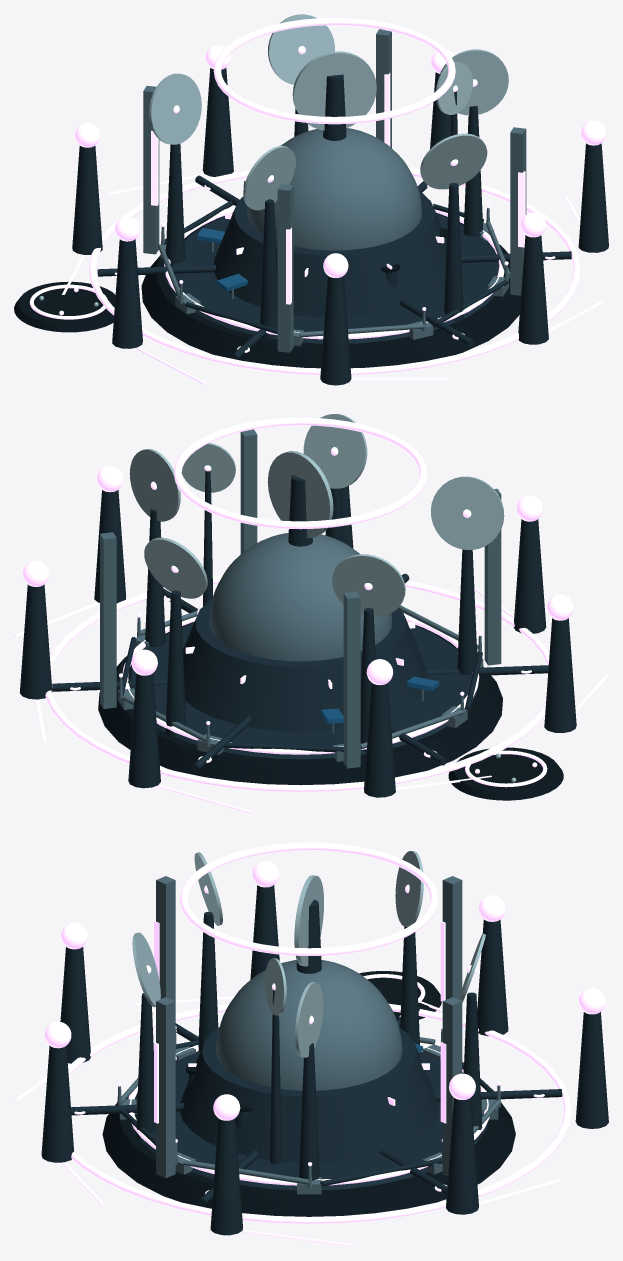
The model's file is researchLab-stage4.glb.
3 views of the same model, one above another, from view 1: azimuth 30°, elevation 25°; view 2: azimuth 150°, elevation 25°; view 3: azimuth 270°, elevation 25° (orthographic). The views are drawn at different scales.
Visible parts, largest first — view 1: observatory-dome, laboratory-base, armored-foundation, upper-deck, district-grid-3, research-field-crown, deep-space-dish, landing-pad, deep-space-array-3, deep-space-array-1, deep-space-array-4, energy-pylon-0 (+32 smaller); view 2: observatory-dome, laboratory-base, armored-foundation, upper-deck, district-grid-3, research-field-crown, deep-space-array-2, landing-pad, deep-space-dish, deep-space-array-3, mega-pylon-2, deep-space-array-1 (+30 smaller); view 3: laboratory-base, observatory-dome, armored-foundation, upper-deck, district-grid-3, research-field-crown, mega-pylon-0, energy-pylon-3, energy-pylon-4, energy-pylon-6, energy-pylon-5, energy-pylon-2 (+33 smaller).
Part boxes in pixels (x1,y1,x2,y2): observatory-dome: (247,128,421,250); laboratory-base: (214,191,446,317); armored-foundation: (141,212,520,368); upper-deck: (166,213,503,343); district-grid-3: (89,169,580,374); research-field-crown: (213,17,455,124); deep-space-dish: (292,51,376,130); landing-pad: (14,281,115,332); deep-space-array-3: (149,73,201,144); deep-space-array-1: (420,133,487,189); deep-space-array-4: (268,14,334,84); energy-pylon-0: (320,276,351,385); observatory-dome: (209,533,391,661); laboratory-base: (183,599,427,731); armored-foundation: (98,621,502,785); upper-deck: (128,622,476,759); district-grid-3: (45,576,549,792); research-field-crown: (174,417,427,529); deep-space-array-2: (430,476,504,549); landing-pad: (448,747,563,800); deep-space-dish: (267,451,333,537); deep-space-array-3: (332,554,405,616); mega-pylon-2: (343,591,360,768); deep-space-array-1: (303,414,367,488); laboratory-base: (180,1027,438,1162); observatory-dome: (216,960,402,1090); armored-foundation: (102,1051,515,1216); upper-deck: (130,1052,488,1190); district-grid-3: (68,1003,571,1223); research-field-crown: (180,842,438,955); mega-pylon-0: (156,997,175,1178); energy-pylon-3: (575,1012,608,1128); energy-pylon-4: (446,1098,478,1214); energy-pylon-6: (41,1045,74,1162); energy-pylon-5: (210,1118,242,1235); energy-pylon-2: (477,919,508,1036).
Size of the model in its own units: 18.46 by 7.92 by 16.76.
